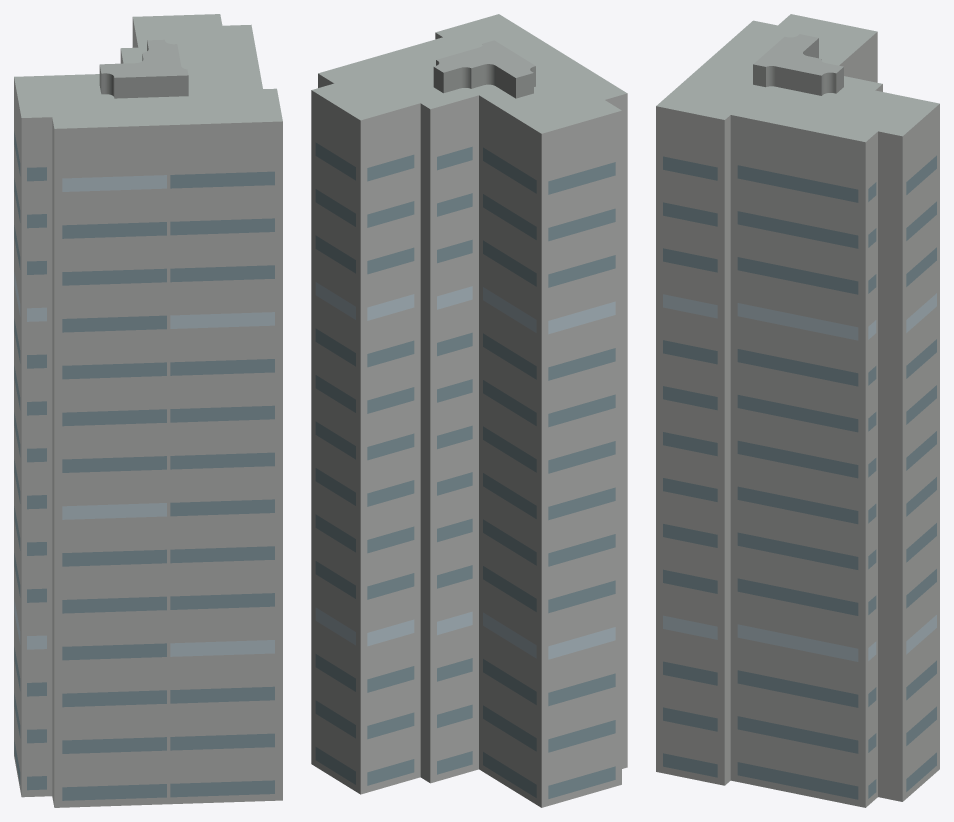
File: fallback-banpo-xi-124.glb
3 renders of one model, left to right at view 1: azimuth 30°, elevation 25°; view 2: azimuth 150°, elevation 25°; view 3: azimuth 270°, elevation 25°, orthographic. The views are drawn at different scales.
Parts seen in each view (by area): view 1: fallback-banpo-xi-124; view 2: fallback-banpo-xi-124; view 3: fallback-banpo-xi-124.
Part boxes in pixels (x1,y1,x2,y2): fallback-banpo-xi-124: [14, 14, 282, 807]; fallback-banpo-xi-124: [311, 14, 627, 807]; fallback-banpo-xi-124: [656, 14, 939, 807].
Bounding box in the file's own units: 32.48 × 81 × 30.38.
